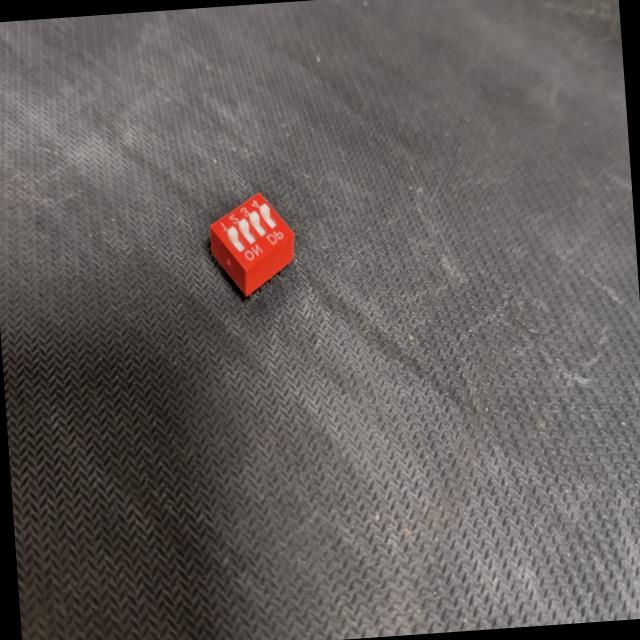switch: (199, 185, 303, 309)
